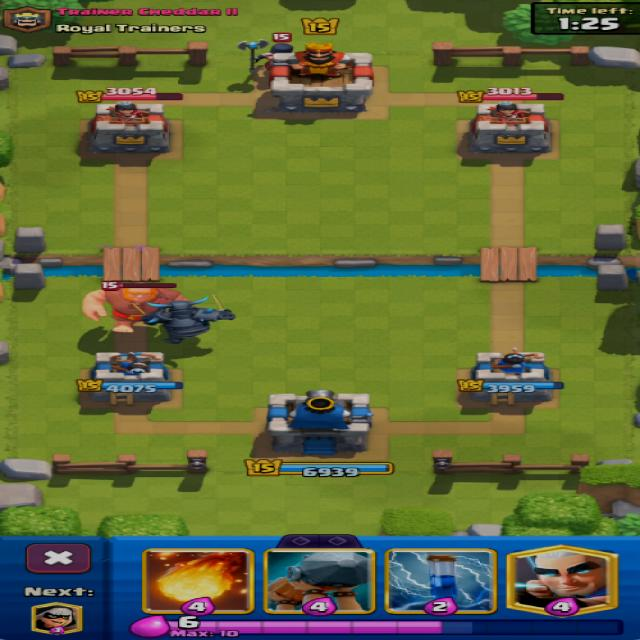Enemy-Giant: (82, 287, 186, 332)
Enemy-KingTower: (270, 43, 372, 112)
Enemy-NightWitch: (237, 39, 292, 73)
Enemy-PrincessTower: (88, 102, 169, 154), (470, 102, 549, 154)
